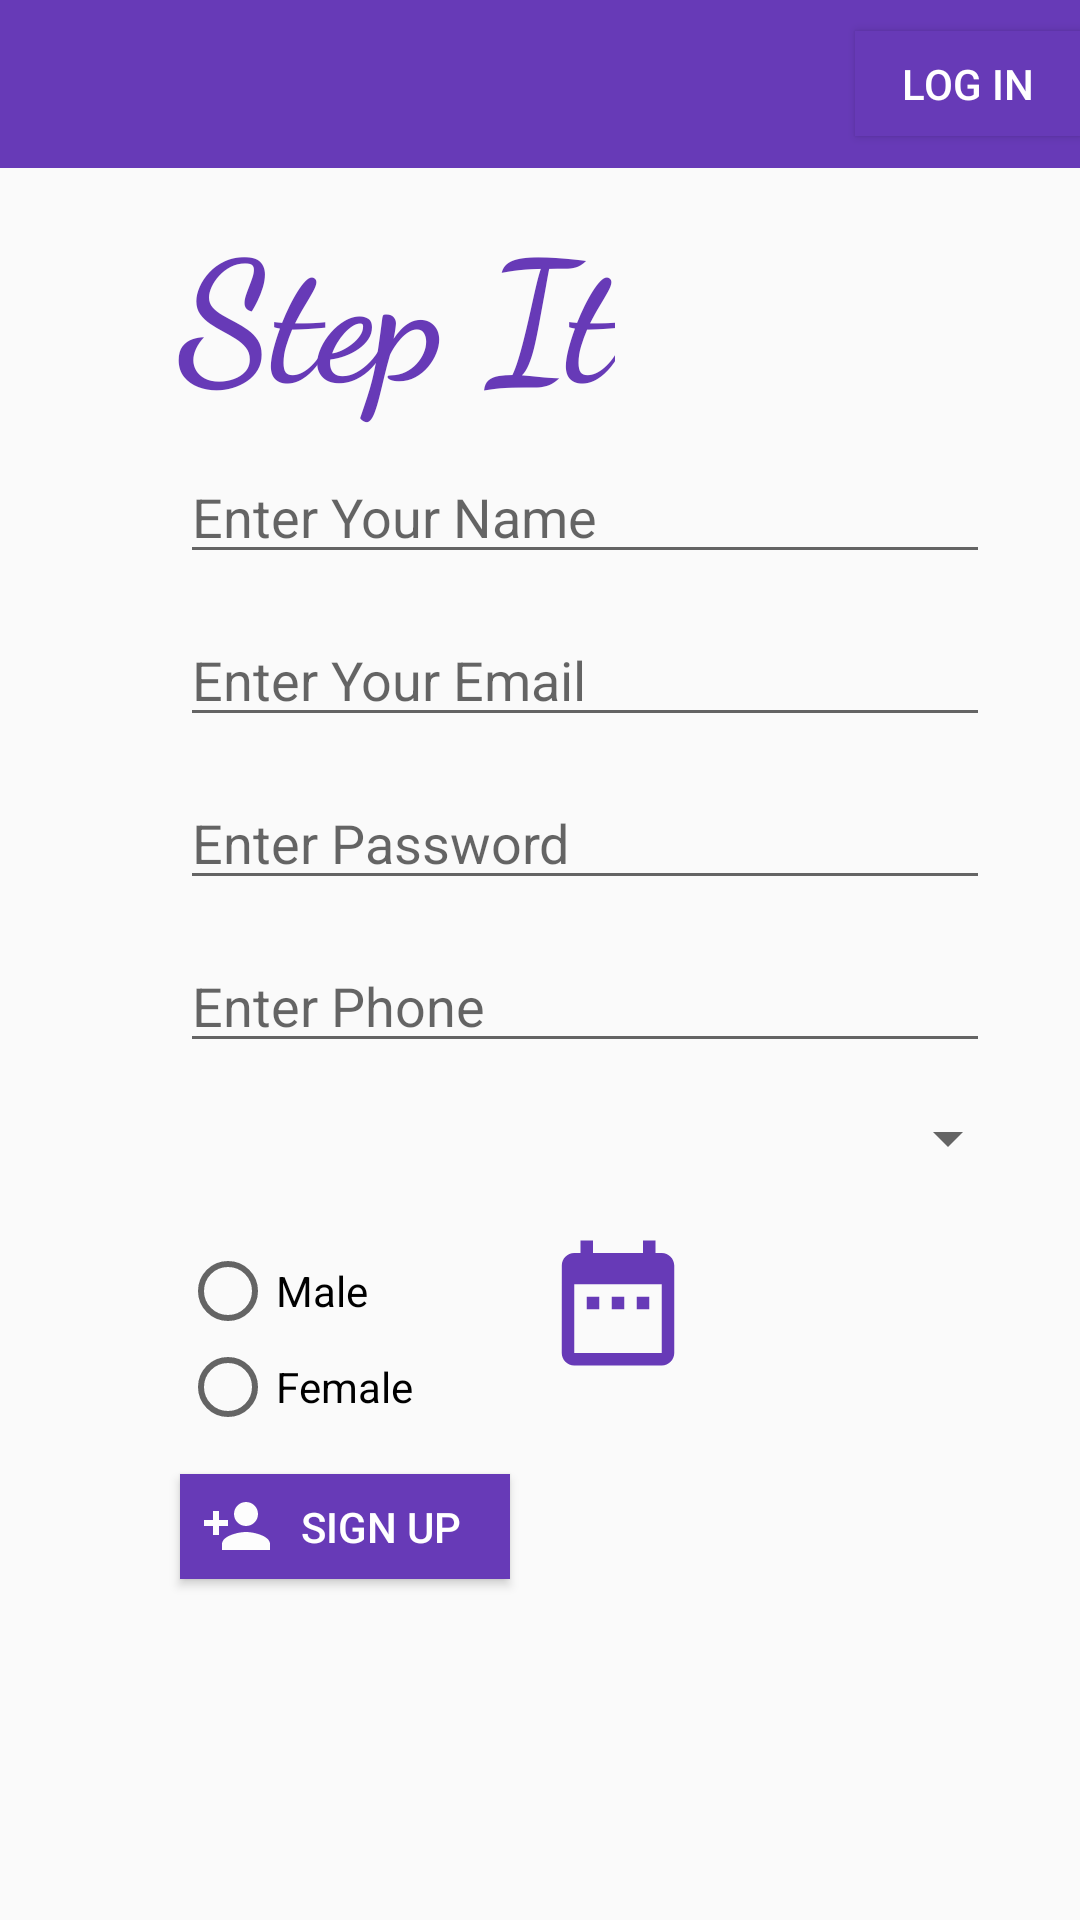

Named icons in this screenshot (1080px×1920px) and their bounding boxes, (x1, y1, x2, y2):
date: (561, 1240, 675, 1366)
